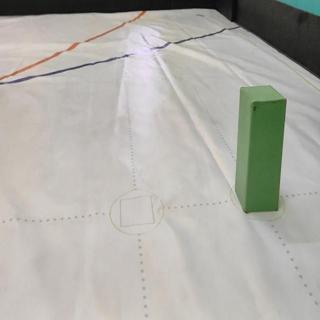greenbox: (233, 84, 288, 213)
